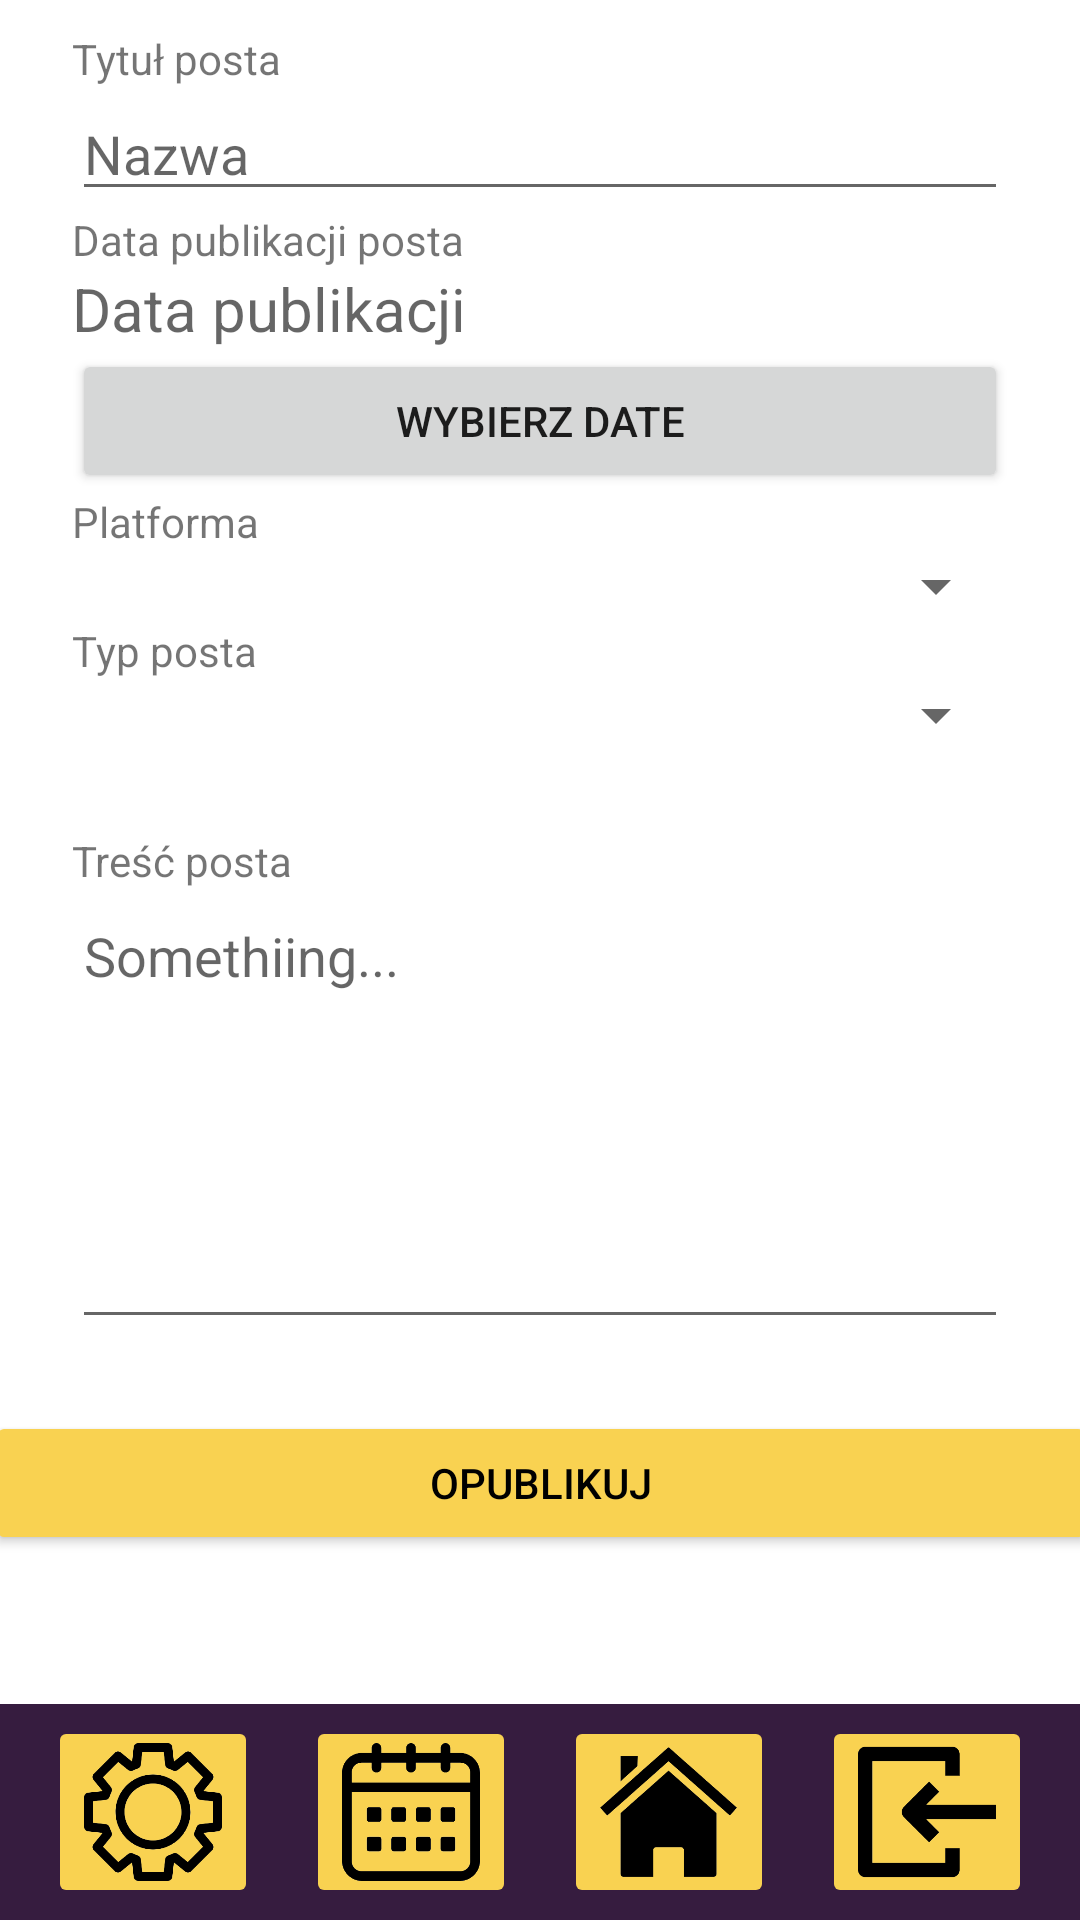

Where to tap for icons on this 1080x1920 app screen, as (x,y):
calendar: (411,1812)
home: (669,1812)
settings: (153,1812)
